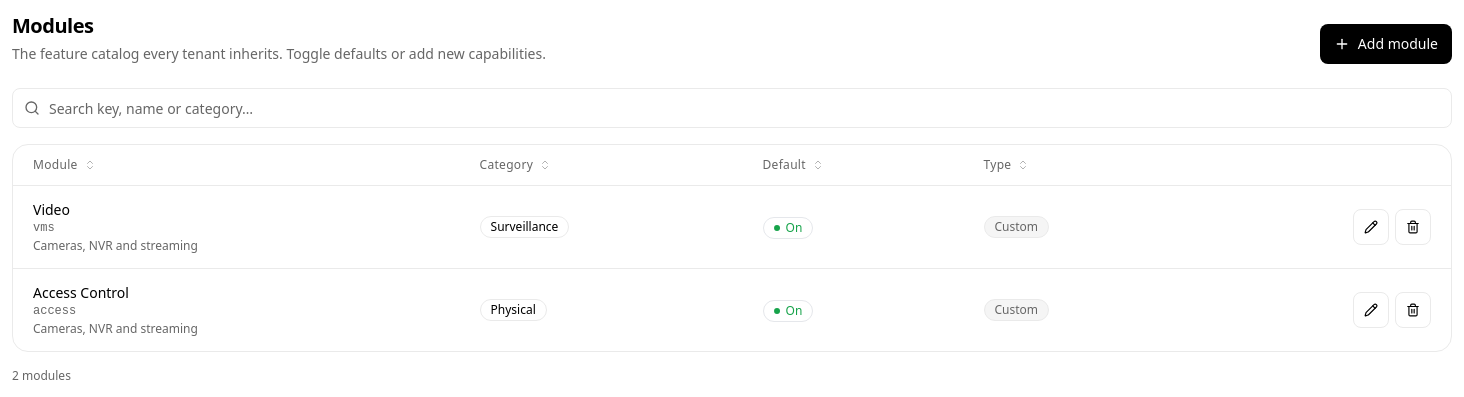
Test case: module catalog › filters on key, name and category
Expected: the text "Access Control" is shown, [33,283,129,302]
Step 1. Type "physical" into the field with placeholder "Search key, name or category…" → point(732, 108), box [12,88,1452,128]
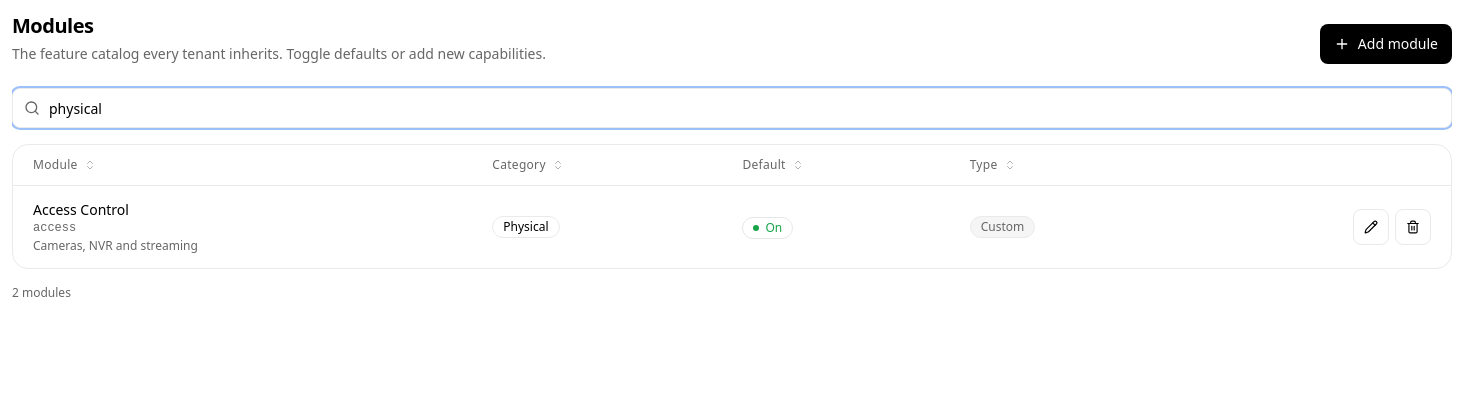
Result: the text "Video" is gone
Result: the text "Access Control" is shown at [33,200,129,219]
